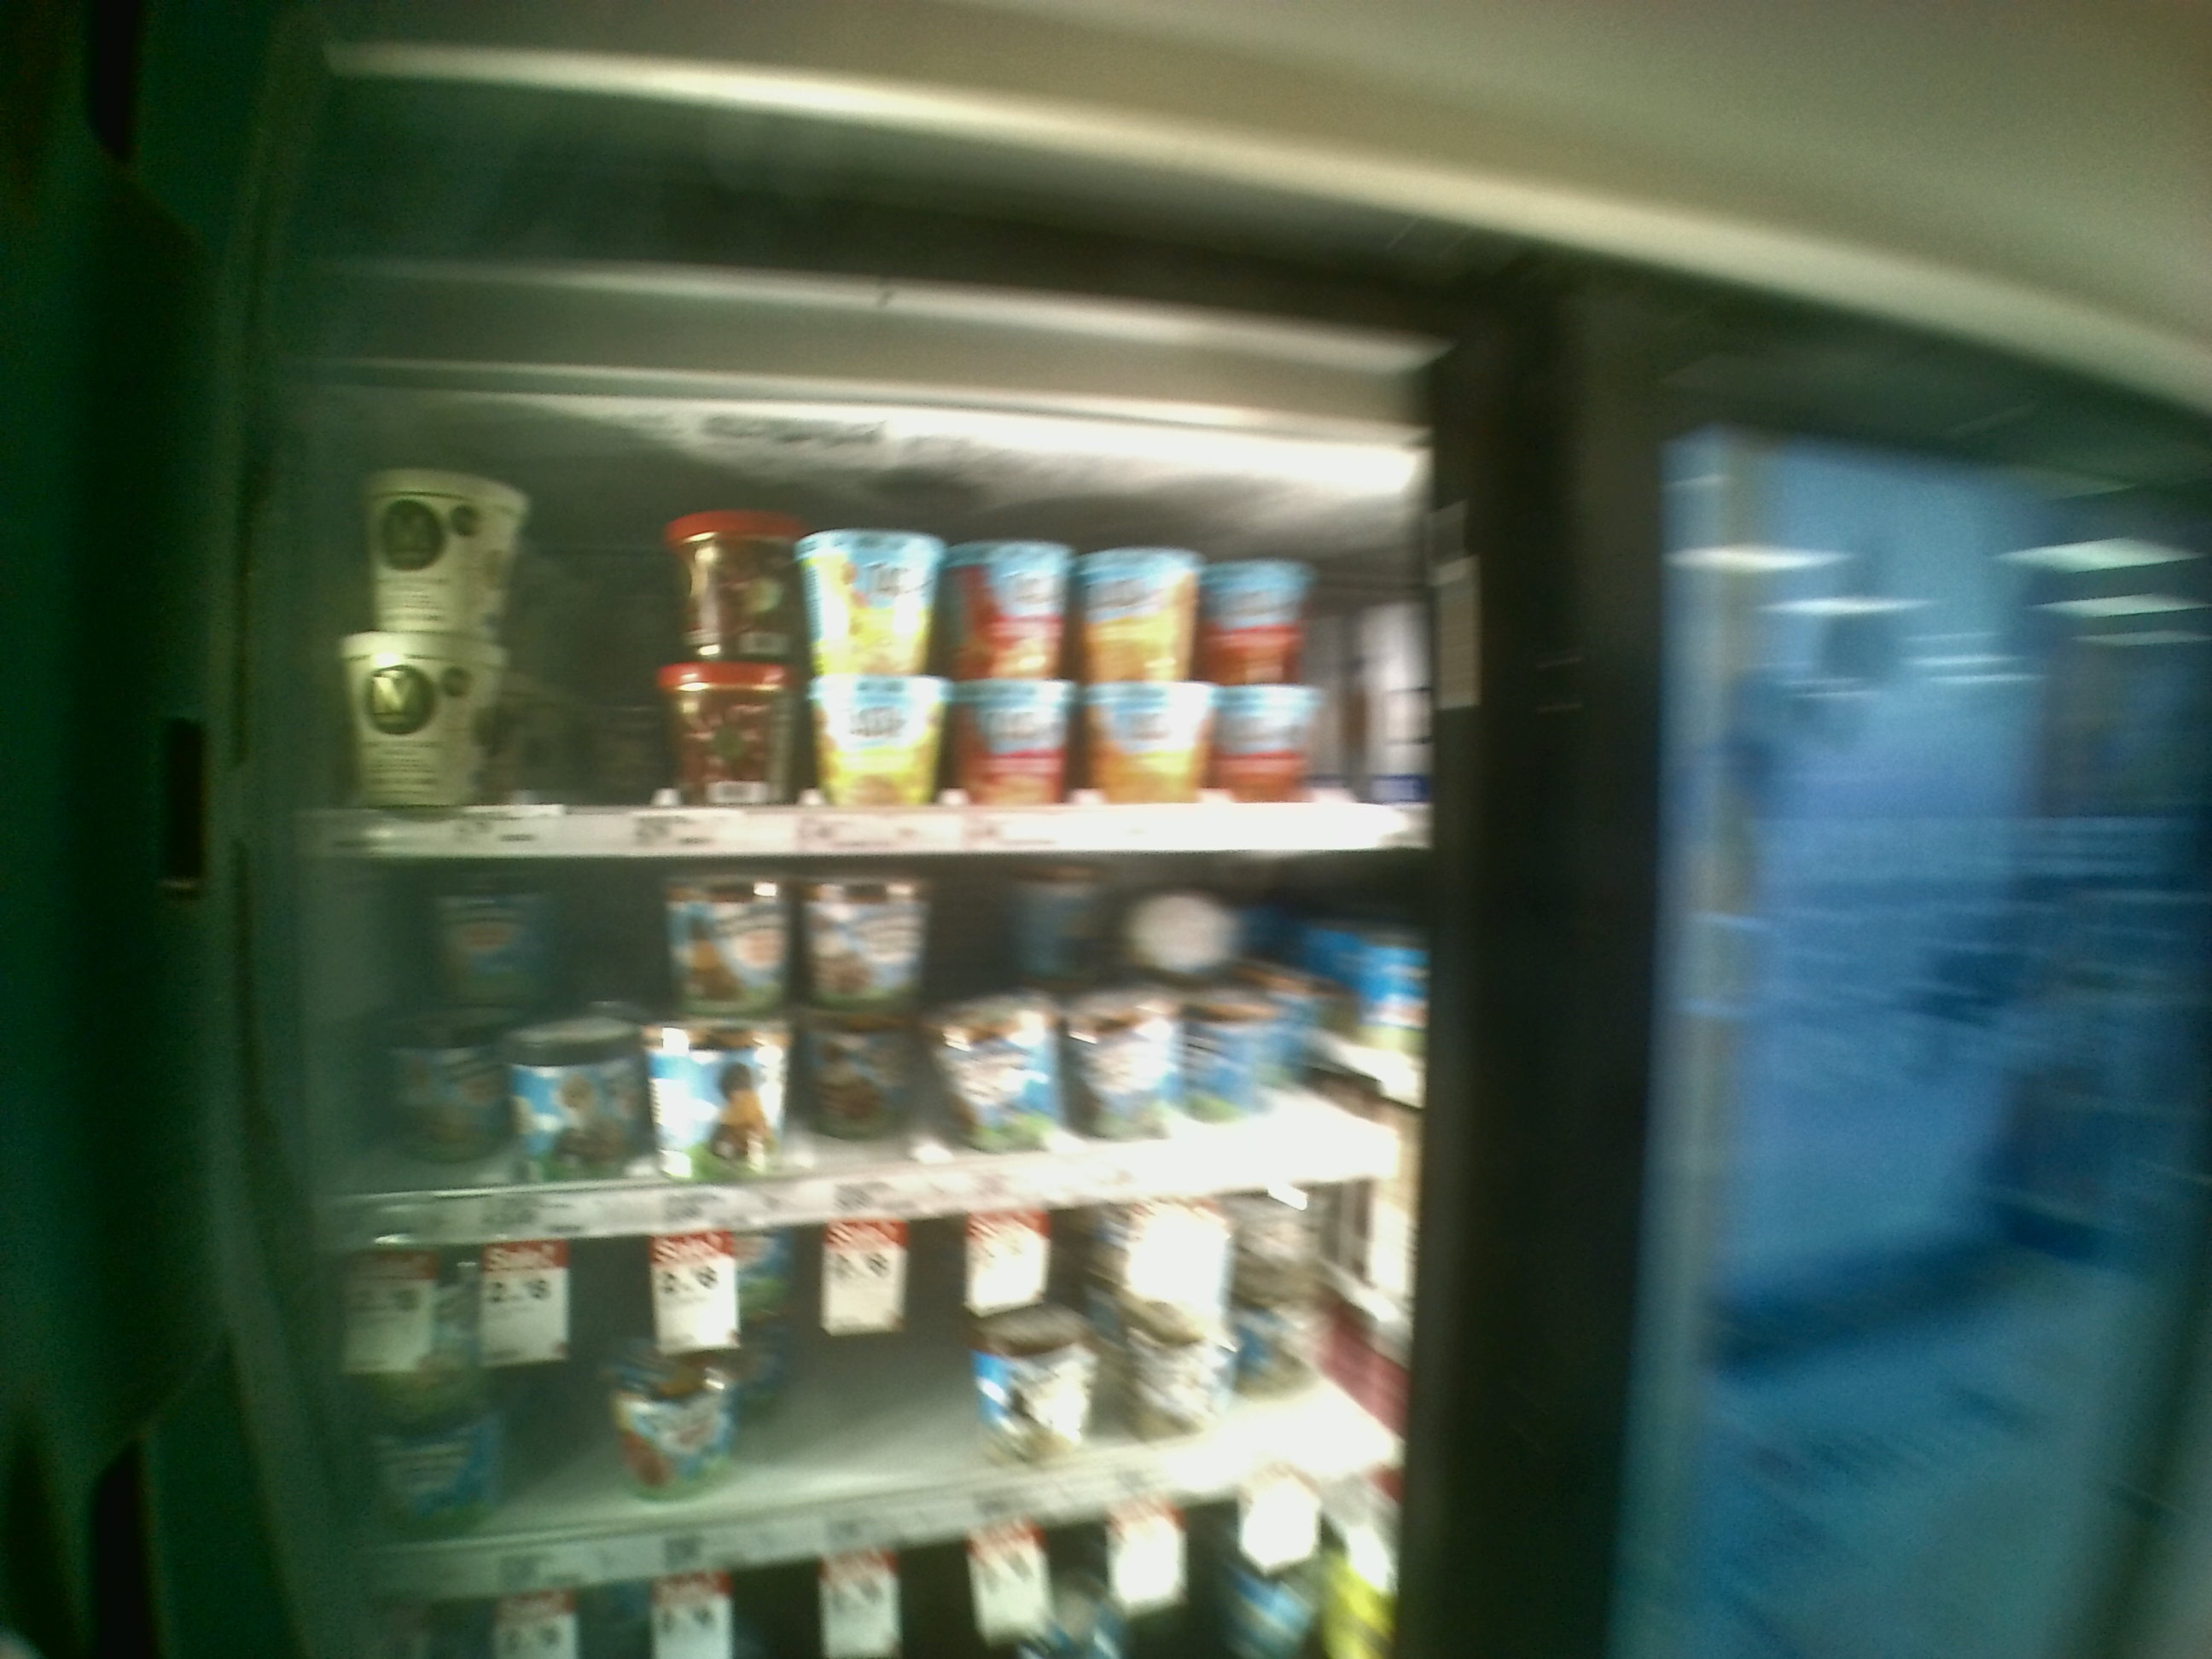shelf: (291, 336, 1428, 852)
